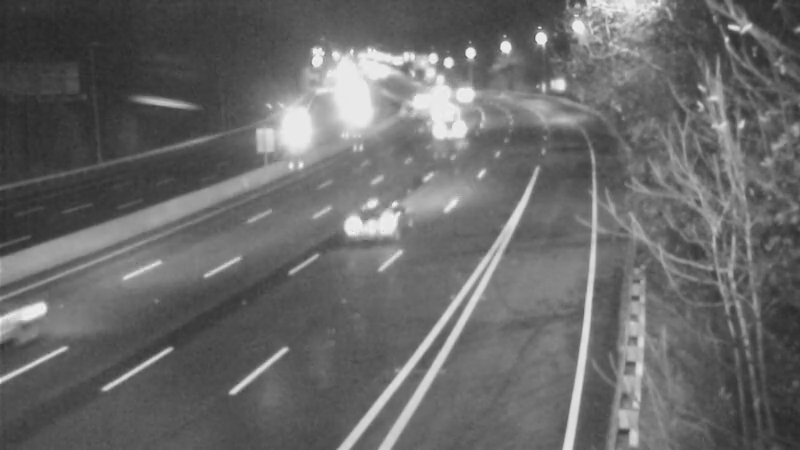vehicle: (336, 181, 416, 261), (439, 69, 489, 119), (396, 75, 446, 125), (415, 86, 465, 136), (424, 104, 474, 154), (269, 106, 319, 156)
